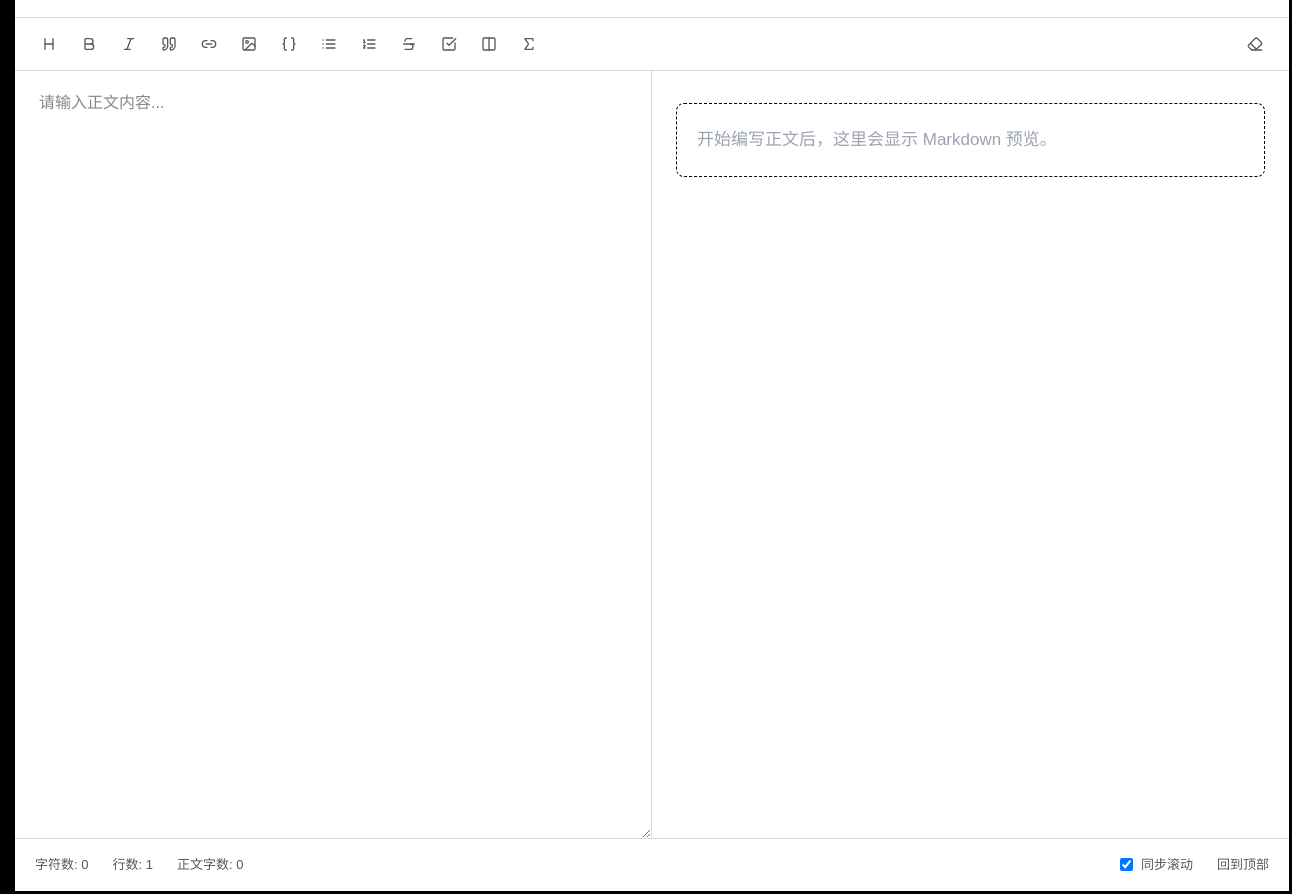
Test case: PostComposerPage › clears the body and updates character count
(page scrolled)
Type "正文内容" into the text box with placeholder "请输入正文内容...". click: (333, 454)
box: left=15, top=71, right=651, bottom=838
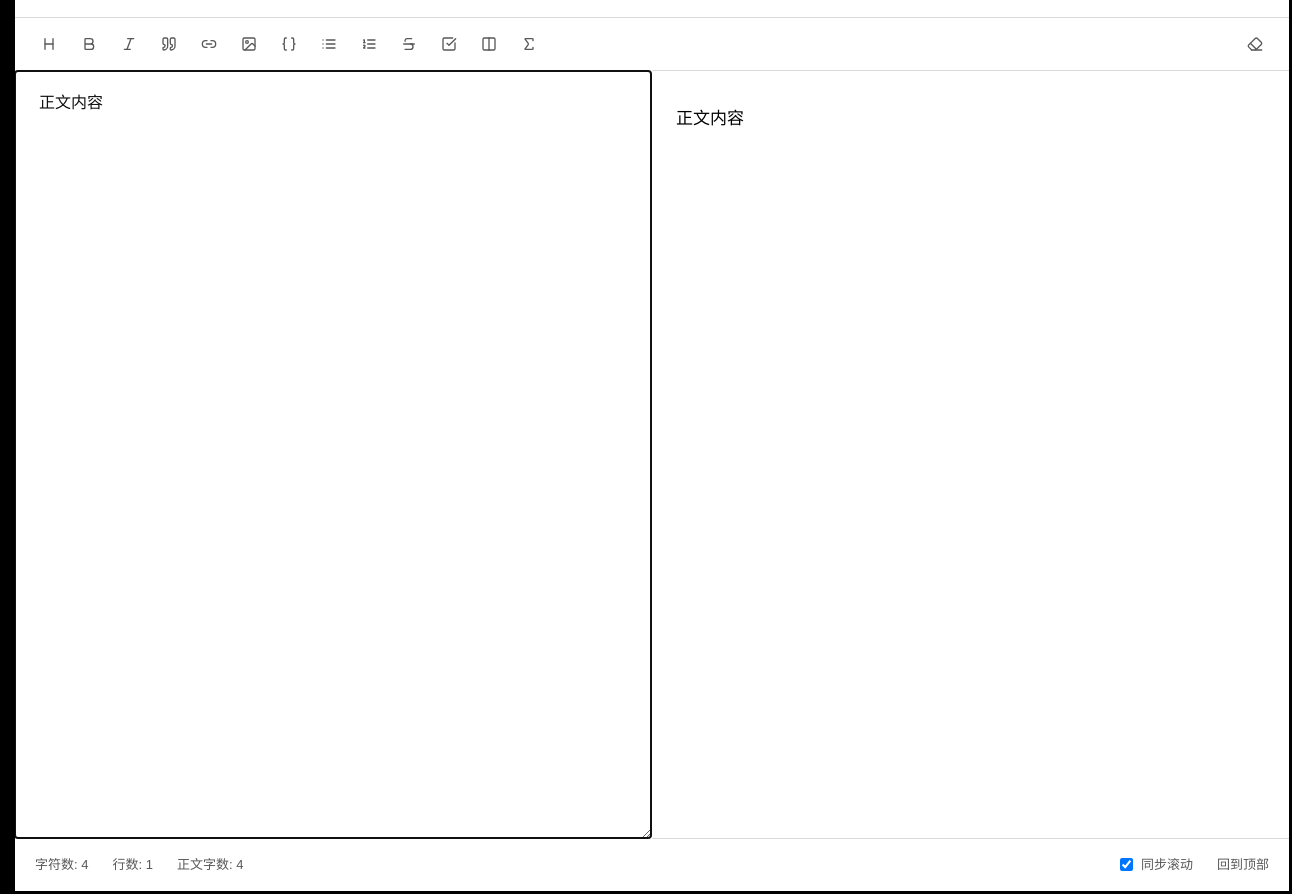
expect the text "字符数: 4" is shown: met, box left=35, top=855, right=88, bottom=874
Click the button named "清空". click: (1255, 44)
box: left=1241, top=30, right=1269, bottom=58
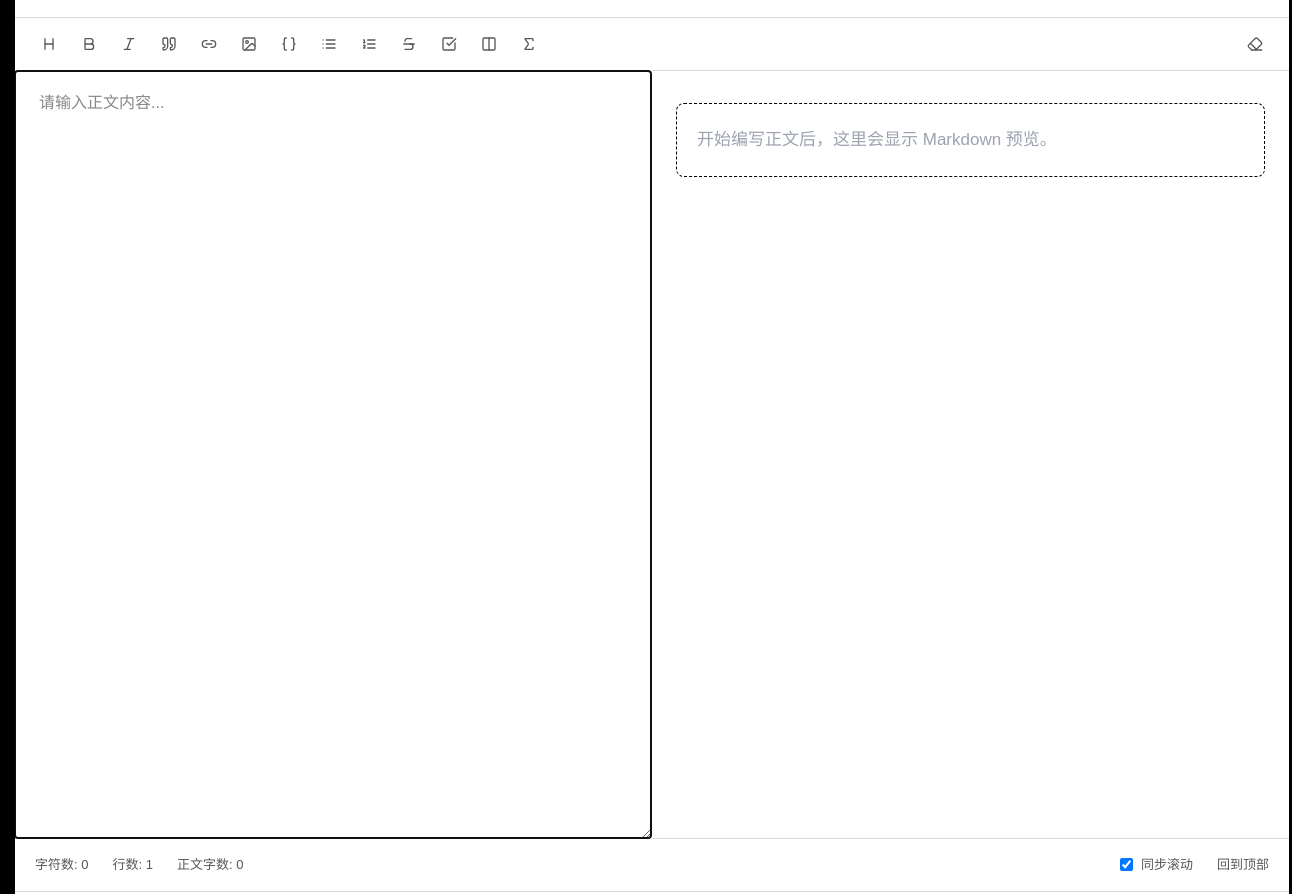
expect the text box with placeholder "请输入正文内容..." is empty: met, box left=15, top=71, right=651, bottom=838
expect the text "字符数: 0" is shown: met, box left=35, top=855, right=88, bottom=874
